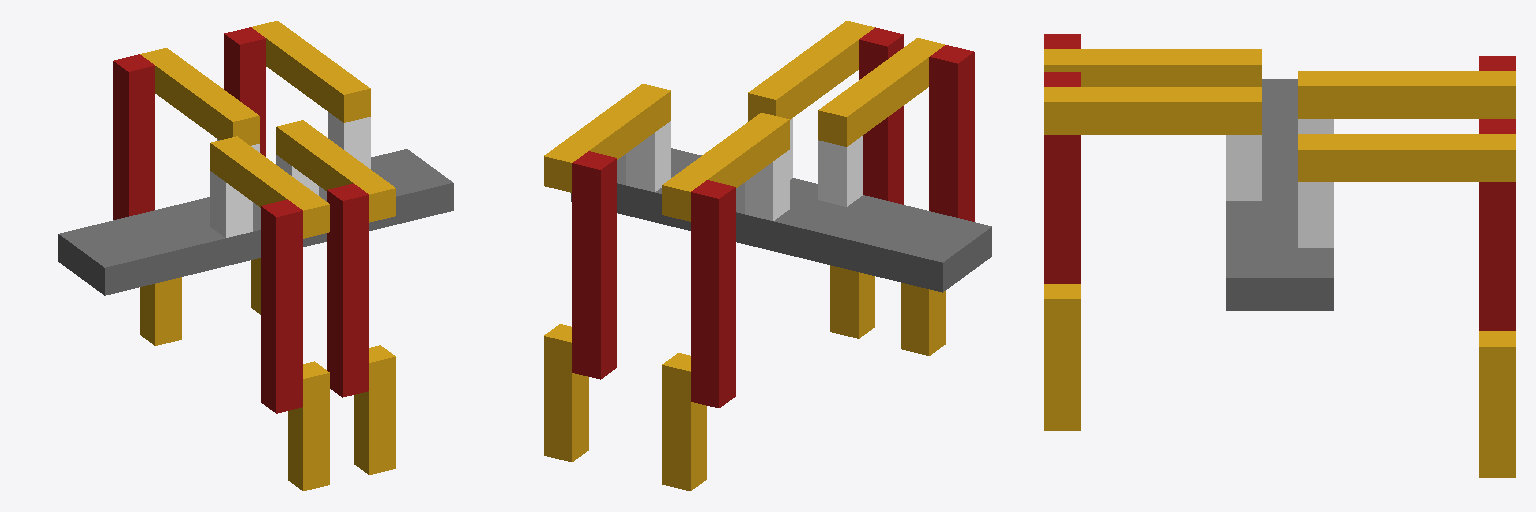
robot.urdf — v0:
<?xml version="1.0" encoding="utf-8"?>
<!-- =================================================================================== -->
<!-- |    This document was autogenerated by xacro from ../robots/v0variants/xacros/v0_4l_6.xacro | -->
<!-- |    EDITING THIS FILE BY HAND IS NOT RECOMMENDED                                 | -->
<!-- =================================================================================== -->
<robot name="v0">
  <material name="grey">
    <color rgba="0.5 0.5 0.5 1"/>
  </material>
  <material name="white">
    <color rgba="1 1 1 1"/>
  </material>
  <material name="yellow">
    <color rgba="0.91 0.7 0.14 1"/>
  </material>
  <material name="red">
    <color rgba="0.71 0.14 0.14 1"/>
  </material>
  <link name="body">
    <visual>
      <geometry>
        <box size="1.3 0.3 0.1"/>
      </geometry>
      <material name="grey"/>
      <origin rpy="0 0 0" xyz="0 0 0.7"/>
    </visual>
    <collision>
      <geometry>
        <box size="1.3 0.3 0.1"/>
      </geometry>
      <origin rpy="0 0 0" xyz="0 0 0.7"/>
    </collision>
    <inertial>
      <mass value="99.84"/>
      <inertia ixx="0.832" ixy="0.0" ixz="0.0" iyy="14.144" iyz="0.0" izz="14.8096"/>
    </inertial>
  </link>
  <link name="l1_segment_1">
    <visual>
      <geometry>
        <box size="0.1 0.1 0.2"/>
      </geometry>
      <material name="white"/>
      <origin rpy="0 0 0" xyz="0 0 0.1"/>
    </visual>
    <collision>
      <geometry>
        <box size="0.1 0.1 0.2"/>
      </geometry>
      <origin rpy="0 0 0" xyz="0 0 0.1"/>
    </collision>
    <inertial>
      <mass value="5.12"/>
      <inertia ixx="0.0213333333333" ixy="0.0" ixz="0.0" iyy="0.0213333333333" iyz="0.0" izz="0.00853333333333"/>
    </inertial>
  </link>
  <joint name="l1_base_to_joint_1" type="fixed">
    <parent link="body"/>
    <child link="l1_segment_1"/>
    <origin rpy="0 0 0" xyz="-0.007593314176254973 0.1 0.75"/>
  </joint>
  <link name="l1_segment_2_HIP">
    <visual>
      <geometry>
        <box size="0.1 0.6 0.1"/>
      </geometry>
      <material name="yellow"/>
      <origin rpy="0 0 0" xyz="0 0.25 0"/>
    </visual>
    <collision>
      <geometry>
        <box size="0.1 0.6 0.1"/>
      </geometry>
      <origin rpy="0 0 0" xyz="0 0.25 0"/>
    </collision>
    <inertial>
      <mass value="15.36"/>
      <inertia ixx="0.4736" ixy="0.0" ixz="0.0" iyy="0.0256" iyz="0.0" izz="0.4736"/>
    </inertial>
  </link>
  <joint name="l1_joint_1_to_2" type="revolute">
    <parent link="l1_segment_1"/>
    <child link="l1_segment_2_HIP"/>
    <origin rpy="0 0 0" xyz="0 0 0.25"/>
    <axis xyz="0.0 0.0 1.0"/>
    <limit effort="2048" lower="-1.2" upper="1.2" velocity="20"/>
  </joint>
  <link name="l1_segment_3_THIGH">
    <visual>
      <geometry>
        <box size="0.1 0.1 0.7"/>
      </geometry>
      <material name="red"/>
      <origin rpy="0 0 0" xyz="0 0 -0.3"/>
    </visual>
    <collision>
      <geometry>
        <box size="0.1 0.1 0.7"/>
      </geometry>
      <origin rpy="0 0 0" xyz="0 0 -0.3"/>
    </collision>
    <inertial>
      <mass value="17.92"/>
      <inertia ixx="0.746666666667" ixy="0.0" ixz="0.0" iyy="0.746666666667" iyz="0.0" izz="0.0298666666667"/>
    </inertial>
  </link>
  <joint name="l1_joint_2_to_3" type="revolute">
    <parent link="l1_segment_2_HIP"/>
    <child link="l1_segment_3_THIGH"/>
    <origin rpy="0 0 0" xyz="-0.1 0.5 0"/>
    <axis xyz="1.0 0.0 0.0"/>
    <limit effort="2048" lower="-0.2" upper="0.75" velocity="20"/>
  </joint>
  <link name="l1_segment_4_FOOT">
    <visual>
      <geometry>
        <box size="0.1 0.1 0.4"/>
      </geometry>
      <material name="yellow"/>
      <origin rpy="0 0 0" xyz="0 0 -0.2"/>
    </visual>
    <collision>
      <geometry>
        <box size="0.1 0.1 0.4"/>
      </geometry>
      <origin rpy="0 0 0" xyz="0 0 -0.2"/>
    </collision>
    <inertial>
      <mass value="10.24"/>
      <inertia ixx="0.145066666667" ixy="0.0" ixz="0.0" iyy="0.145066666667" iyz="0.0" izz="0.0170666666667"/>
    </inertial>
  </link>
  <joint name="l1_joint_3_to_4_FOOT" type="revolute">
    <parent link="l1_segment_3_THIGH"/>
    <child link="l1_segment_4_FOOT"/>
    <origin rpy="0 0 0" xyz="0.1 0 -0.55"/>
    <axis xyz="1.0 0.0 0.0"/>
    <limit effort="2048" lower="-0.2" upper="0.5" velocity="20"/>
  </joint>
  <link name="r2_segment_1">
    <visual>
      <geometry>
        <box size="0.1 0.1 0.2"/>
      </geometry>
      <material name="white"/>
      <origin rpy="0 0 0" xyz="0 0 0.1"/>
    </visual>
    <collision>
      <geometry>
        <box size="0.1 0.1 0.2"/>
      </geometry>
      <origin rpy="0 0 0" xyz="0 0 0.1"/>
    </collision>
    <inertial>
      <mass value="5.12"/>
      <inertia ixx="0.0213333333333" ixy="0.0" ixz="0.0" iyy="0.0213333333333" iyz="0.0" izz="0.00853333333333"/>
    </inertial>
  </link>
  <joint name="r2_base_to_joint_1" type="fixed">
    <parent link="body"/>
    <child link="r2_segment_1"/>
    <origin rpy="0 0 0" xyz="-0.14915448029276693 -0.1 0.75"/>
  </joint>
  <link name="r2_segment_2_HIP">
    <visual>
      <geometry>
        <box size="0.1 0.6 0.1"/>
      </geometry>
      <material name="yellow"/>
      <origin rpy="0 0 0" xyz="0 -0.25 0"/>
    </visual>
    <collision>
      <geometry>
        <box size="0.1 0.6 0.1"/>
      </geometry>
      <origin rpy="0 0 0" xyz="0 -0.25 0"/>
    </collision>
    <inertial>
      <mass value="15.36"/>
      <inertia ixx="0.4736" ixy="0.0" ixz="0.0" iyy="0.0256" iyz="0.0" izz="0.4736"/>
    </inertial>
  </link>
  <joint name="r2_joint_1_to_2" type="revolute">
    <parent link="r2_segment_1"/>
    <child link="r2_segment_2_HIP"/>
    <origin rpy="0 0 0" xyz="0 0 0.25"/>
    <axis xyz="0.0 0.0 1.0"/>
    <limit effort="2048" lower="-1.2" upper="1.2" velocity="20"/>
  </joint>
  <link name="r2_segment_3_THIGH">
    <visual>
      <geometry>
        <box size="0.1 0.1 0.7"/>
      </geometry>
      <material name="red"/>
      <origin rpy="0 0 0" xyz="0 0 -0.3"/>
    </visual>
    <collision>
      <geometry>
        <box size="0.1 0.1 0.7"/>
      </geometry>
      <origin rpy="0 0 0" xyz="0 0 -0.3"/>
    </collision>
    <inertial>
      <mass value="17.92"/>
      <inertia ixx="0.746666666667" ixy="0.0" ixz="0.0" iyy="0.746666666667" iyz="0.0" izz="0.0298666666667"/>
    </inertial>
  </link>
  <joint name="r2_joint_2_to_3" type="revolute">
    <parent link="r2_segment_2_HIP"/>
    <child link="r2_segment_3_THIGH"/>
    <origin rpy="0 0 0" xyz="-0.1 -0.5 0"/>
    <axis xyz="1.0 0.0 0.0"/>
    <limit effort="2048" lower="-0.75" upper="0.2" velocity="20"/>
  </joint>
  <link name="r2_segment_4_FOOT">
    <visual>
      <geometry>
        <box size="0.1 0.1 0.4"/>
      </geometry>
      <material name="yellow"/>
      <origin rpy="0 0 0" xyz="0 0 -0.2"/>
    </visual>
    <collision>
      <geometry>
        <box size="0.1 0.1 0.4"/>
      </geometry>
      <origin rpy="0 0 0" xyz="0 0 -0.2"/>
    </collision>
    <inertial>
      <mass value="10.24"/>
      <inertia ixx="0.145066666667" ixy="0.0" ixz="0.0" iyy="0.145066666667" iyz="0.0" izz="0.0170666666667"/>
    </inertial>
  </link>
  <joint name="r2_joint_3_to_4_FOOT" type="revolute">
    <parent link="r2_segment_3_THIGH"/>
    <child link="r2_segment_4_FOOT"/>
    <origin rpy="0 0 0" xyz="0.1 0 -0.55"/>
    <axis xyz="1.0 0.0 0.0"/>
    <limit effort="2048" lower="-0.5" upper="0.2" velocity="20"/>
  </joint>
  <link name="l3_segment_1">
    <visual>
      <geometry>
        <box size="0.1 0.1 0.2"/>
      </geometry>
      <material name="white"/>
      <origin rpy="0 0 0" xyz="0 0 0.1"/>
    </visual>
    <collision>
      <geometry>
        <box size="0.1 0.1 0.2"/>
      </geometry>
      <origin rpy="0 0 0" xyz="0 0 0.1"/>
    </collision>
    <inertial>
      <mass value="5.12"/>
      <inertia ixx="0.0213333333333" ixy="0.0" ixz="0.0" iyy="0.0213333333333" iyz="0.0" izz="0.00853333333333"/>
    </inertial>
  </link>
  <joint name="l3_base_to_joint_1" type="fixed">
    <parent link="body"/>
    <child link="l3_segment_1"/>
    <origin rpy="0 0 0" xyz="0.4063064473238863 0.1 0.75"/>
  </joint>
  <link name="l3_segment_2_HIP">
    <visual>
      <geometry>
        <box size="0.1 0.6 0.1"/>
      </geometry>
      <material name="yellow"/>
      <origin rpy="0 0 0" xyz="0 0.25 0"/>
    </visual>
    <collision>
      <geometry>
        <box size="0.1 0.6 0.1"/>
      </geometry>
      <origin rpy="0 0 0" xyz="0 0.25 0"/>
    </collision>
    <inertial>
      <mass value="15.36"/>
      <inertia ixx="0.4736" ixy="0.0" ixz="0.0" iyy="0.0256" iyz="0.0" izz="0.4736"/>
    </inertial>
  </link>
  <joint name="l3_joint_1_to_2" type="revolute">
    <parent link="l3_segment_1"/>
    <child link="l3_segment_2_HIP"/>
    <origin rpy="0 0 0" xyz="0 0 0.25"/>
    <axis xyz="0.0 0.0 1.0"/>
    <limit effort="2048" lower="-1.2" upper="1.2" velocity="20"/>
  </joint>
  <link name="l3_segment_3_THIGH">
    <visual>
      <geometry>
        <box size="0.1 0.1 0.7"/>
      </geometry>
      <material name="red"/>
      <origin rpy="0 0 0" xyz="0 0 -0.3"/>
    </visual>
    <collision>
      <geometry>
        <box size="0.1 0.1 0.7"/>
      </geometry>
      <origin rpy="0 0 0" xyz="0 0 -0.3"/>
    </collision>
    <inertial>
      <mass value="17.92"/>
      <inertia ixx="0.746666666667" ixy="0.0" ixz="0.0" iyy="0.746666666667" iyz="0.0" izz="0.0298666666667"/>
    </inertial>
  </link>
  <joint name="l3_joint_2_to_3" type="revolute">
    <parent link="l3_segment_2_HIP"/>
    <child link="l3_segment_3_THIGH"/>
    <origin rpy="0 0 0" xyz="-0.1 0.5 0"/>
    <axis xyz="1.0 0.0 0.0"/>
    <limit effort="2048" lower="-0.2" upper="0.75" velocity="20"/>
  </joint>
  <link name="l3_segment_4_FOOT">
    <visual>
      <geometry>
        <box size="0.1 0.1 0.4"/>
      </geometry>
      <material name="yellow"/>
      <origin rpy="0 0 0" xyz="0 0 -0.2"/>
    </visual>
    <collision>
      <geometry>
        <box size="0.1 0.1 0.4"/>
      </geometry>
      <origin rpy="0 0 0" xyz="0 0 -0.2"/>
    </collision>
    <inertial>
      <mass value="10.24"/>
      <inertia ixx="0.145066666667" ixy="0.0" ixz="0.0" iyy="0.145066666667" iyz="0.0" izz="0.0170666666667"/>
    </inertial>
  </link>
  <joint name="l3_joint_3_to_4_FOOT" type="revolute">
    <parent link="l3_segment_3_THIGH"/>
    <child link="l3_segment_4_FOOT"/>
    <origin rpy="0 0 0" xyz="0.1 0 -0.55"/>
    <axis xyz="1.0 0.0 0.0"/>
    <limit effort="2048" lower="-0.2" upper="0.5" velocity="20"/>
  </joint>
  <link name="r4_segment_1">
    <visual>
      <geometry>
        <box size="0.1 0.1 0.2"/>
      </geometry>
      <material name="white"/>
      <origin rpy="0 0 0" xyz="0 0 0.1"/>
    </visual>
    <collision>
      <geometry>
        <box size="0.1 0.1 0.2"/>
      </geometry>
      <origin rpy="0 0 0" xyz="0 0 0.1"/>
    </collision>
    <inertial>
      <mass value="5.12"/>
      <inertia ixx="0.0213333333333" ixy="0.0" ixz="0.0" iyy="0.0213333333333" iyz="0.0" izz="0.00853333333333"/>
    </inertial>
  </link>
  <joint name="r4_base_to_joint_1" type="fixed">
    <parent link="body"/>
    <child link="r4_segment_1"/>
    <origin rpy="0 0 0" xyz="0.09722291858981438 -0.1 0.75"/>
  </joint>
  <link name="r4_segment_2_HIP">
    <visual>
      <geometry>
        <box size="0.1 0.6 0.1"/>
      </geometry>
      <material name="yellow"/>
      <origin rpy="0 0 0" xyz="0 -0.25 0"/>
    </visual>
    <collision>
      <geometry>
        <box size="0.1 0.6 0.1"/>
      </geometry>
      <origin rpy="0 0 0" xyz="0 -0.25 0"/>
    </collision>
    <inertial>
      <mass value="15.36"/>
      <inertia ixx="0.4736" ixy="0.0" ixz="0.0" iyy="0.0256" iyz="0.0" izz="0.4736"/>
    </inertial>
  </link>
  <joint name="r4_joint_1_to_2" type="revolute">
    <parent link="r4_segment_1"/>
    <child link="r4_segment_2_HIP"/>
    <origin rpy="0 0 0" xyz="0 0 0.25"/>
    <axis xyz="0.0 0.0 1.0"/>
    <limit effort="2048" lower="-1.2" upper="1.2" velocity="20"/>
  </joint>
  <link name="r4_segment_3_THIGH">
    <visual>
      <geometry>
        <box size="0.1 0.1 0.7"/>
      </geometry>
      <material name="red"/>
      <origin rpy="0 0 0" xyz="0 0 -0.3"/>
    </visual>
    <collision>
      <geometry>
        <box size="0.1 0.1 0.7"/>
      </geometry>
      <origin rpy="0 0 0" xyz="0 0 -0.3"/>
    </collision>
    <inertial>
      <mass value="17.92"/>
      <inertia ixx="0.746666666667" ixy="0.0" ixz="0.0" iyy="0.746666666667" iyz="0.0" izz="0.0298666666667"/>
    </inertial>
  </link>
  <joint name="r4_joint_2_to_3" type="revolute">
    <parent link="r4_segment_2_HIP"/>
    <child link="r4_segment_3_THIGH"/>
    <origin rpy="0 0 0" xyz="-0.1 -0.5 0"/>
    <axis xyz="1.0 0.0 0.0"/>
    <limit effort="2048" lower="-0.75" upper="0.2" velocity="20"/>
  </joint>
  <link name="r4_segment_4_FOOT">
    <visual>
      <geometry>
        <box size="0.1 0.1 0.4"/>
      </geometry>
      <material name="yellow"/>
      <origin rpy="0 0 0" xyz="0 0 -0.2"/>
    </visual>
    <collision>
      <geometry>
        <box size="0.1 0.1 0.4"/>
      </geometry>
      <origin rpy="0 0 0" xyz="0 0 -0.2"/>
    </collision>
    <inertial>
      <mass value="10.24"/>
      <inertia ixx="0.145066666667" ixy="0.0" ixz="0.0" iyy="0.145066666667" iyz="0.0" izz="0.0170666666667"/>
    </inertial>
  </link>
  <joint name="r4_joint_3_to_4_FOOT" type="revolute">
    <parent link="r4_segment_3_THIGH"/>
    <child link="r4_segment_4_FOOT"/>
    <origin rpy="0 0 0" xyz="0.1 0 -0.55"/>
    <axis xyz="1.0 0.0 0.0"/>
    <limit effort="2048" lower="-0.5" upper="0.2" velocity="20"/>
  </joint>
</robot>

--- What the picture shows (computed from the rendered views, not written in the file) ---
The picture shows the robot from 3 angles, left to right: view 1: azimuth 30°, elevation 25°; view 2: azimuth 150°, elevation 25°; view 3: azimuth 270°, elevation 25°; orthographic projection.
Model v0 with 17 links and 16 joints (12 revolute, 4 fixed), rooted at body, posed every joint at zero.
Visible links, largest first — view 1: body, r2_segment_3_THIGH, r4_segment_3_THIGH, l1_segment_3_THIGH, l3_segment_2_HIP, l1_segment_2_HIP, r4_segment_2_HIP, r2_segment_2_HIP, r2_segment_4_FOOT, r4_segment_4_FOOT, l3_segment_3_THIGH, l1_segment_4_FOOT (+3 smaller); view 2: body, l1_segment_3_THIGH, l3_segment_3_THIGH, r2_segment_3_THIGH, r2_segment_2_HIP, r4_segment_2_HIP, l1_segment_2_HIP, l3_segment_2_HIP, l1_segment_4_FOOT, l3_segment_4_FOOT, r4_segment_3_THIGH, r4_segment_4_FOOT (+4 smaller); view 3: body, l1_segment_2_HIP, l3_segment_2_HIP, r4_segment_2_HIP, r2_segment_2_HIP, l3_segment_3_THIGH, r4_segment_3_THIGH, l3_segment_4_FOOT, r4_segment_4_FOOT, l3_segment_1, r4_segment_1, l1_segment_3_THIGH (+2 smaller).
Boxes of the visible links, x1,y1,x2,y2 form: body: [58, 149, 453, 295]; r2_segment_3_THIGH: [261, 199, 302, 413]; r4_segment_3_THIGH: [327, 183, 368, 397]; l1_segment_3_THIGH: [113, 54, 154, 219]; l3_segment_2_HIP: [252, 21, 370, 122]; l1_segment_2_HIP: [140, 48, 259, 145]; r4_segment_2_HIP: [276, 120, 395, 222]; r2_segment_2_HIP: [210, 136, 329, 238]; r2_segment_4_FOOT: [288, 361, 329, 490]; r4_segment_4_FOOT: [354, 345, 395, 474]; l3_segment_3_THIGH: [224, 27, 265, 156]; l1_segment_4_FOOT: [140, 277, 181, 345]; body: [571, 148, 991, 292]; l1_segment_3_THIGH: [691, 180, 735, 407]; l3_segment_3_THIGH: [572, 151, 616, 379]; r2_segment_3_THIGH: [929, 45, 974, 221]; r2_segment_2_HIP: [818, 38, 944, 146]; r4_segment_2_HIP: [748, 21, 874, 121]; l1_segment_2_HIP: [662, 113, 789, 221]; l3_segment_2_HIP: [544, 84, 670, 192]; l1_segment_4_FOOT: [662, 353, 706, 490]; l3_segment_4_FOOT: [544, 324, 588, 461]; r4_segment_3_THIGH: [859, 27, 903, 204]; r4_segment_4_FOOT: [830, 265, 874, 338]; body: [1226, 79, 1333, 310]; l1_segment_2_HIP: [1298, 71, 1515, 118]; l3_segment_2_HIP: [1298, 134, 1515, 181]; r4_segment_2_HIP: [1044, 87, 1261, 134]; r2_segment_2_HIP: [1044, 49, 1261, 86]; l3_segment_3_THIGH: [1479, 119, 1515, 330]; r4_segment_3_THIGH: [1044, 72, 1080, 283]; l3_segment_4_FOOT: [1479, 331, 1515, 477]; r4_segment_4_FOOT: [1044, 284, 1080, 430]; l3_segment_1: [1298, 182, 1333, 247]; r4_segment_1: [1226, 135, 1261, 200]; l1_segment_3_THIGH: [1479, 56, 1515, 70].
Size in the robot's own frame: 1.3 by 1.3 by 1 metres.
Geometry: primitives only (box / cylinder / sphere), no mesh files.